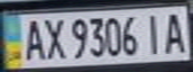0: (103, 14, 124, 57)
3: (87, 15, 106, 58)
6: (121, 12, 145, 57)
9: (66, 15, 90, 60)
A: (160, 9, 190, 55), (18, 16, 48, 61)
I: (139, 10, 169, 56)
X: (39, 15, 66, 61)
